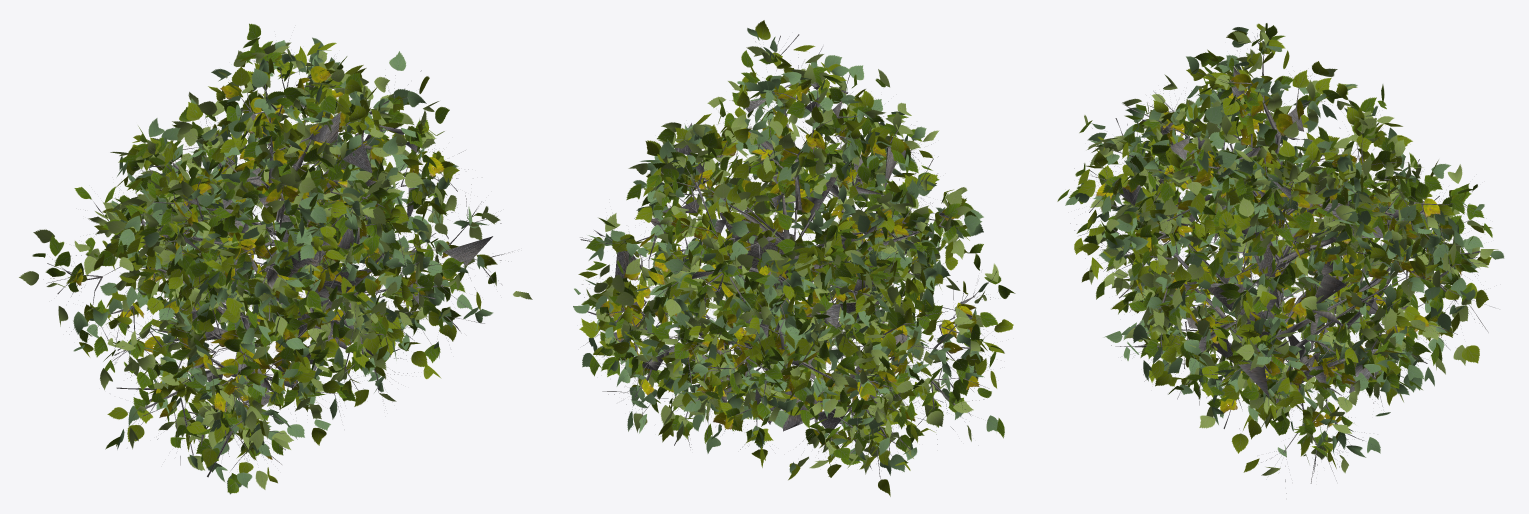
File: bush.glb
3 views of the same model, side by side, from view 1: azimuth 30°, elevation 25°; view 2: azimuth 150°, elevation 25°; view 3: azimuth 270°, elevation 25° (orthographic). The views are drawn at different scales.
Parts seen in each view (by area): view 1: Bush 3 (smaller).001, Bush 3 (smaller).005, Bush 3 (smaller).004, Bush 3 (smaller), Bush 3 (smaller).003, Bush 3 (smaller).002; view 2: Bush 3 (smaller).001, Bush 3 (smaller).005, Bush 3 (smaller).004, Bush 3 (smaller), Bush 3 (smaller).003, Bush 3 (smaller).002; view 3: Bush 3 (smaller), Bush 3 (smaller).004, Bush 3 (smaller).005, Bush 3 (smaller).001, Bush 3 (smaller).003, Bush 3 (smaller).002.
Boxes of the visible parts, box(x1,y1,x2,y2) form: Bush 3 (smaller).001: box(32, 23, 496, 493); Bush 3 (smaller).005: box(19, 42, 532, 489); Bush 3 (smaller).004: box(66, 42, 497, 483); Bush 3 (smaller): box(73, 37, 493, 494); Bush 3 (smaller).003: box(43, 50, 512, 477); Bush 3 (smaller).002: box(73, 66, 450, 459); Bush 3 (smaller).001: box(581, 50, 1015, 466); Bush 3 (smaller).005: box(586, 46, 998, 474); Bush 3 (smaller).004: box(578, 20, 1013, 496); Bush 3 (smaller): box(573, 28, 998, 475); Bush 3 (smaller).003: box(573, 34, 990, 478); Bush 3 (smaller).002: box(601, 86, 979, 445); Bush 3 (smaller): box(1065, 27, 1504, 457); Bush 3 (smaller).004: box(1074, 23, 1492, 472); Bush 3 (smaller).005: box(1084, 26, 1497, 475); Bush 3 (smaller).001: box(1057, 23, 1492, 463); Bush 3 (smaller).003: box(1070, 29, 1494, 493); Bush 3 (smaller).002: box(1096, 74, 1461, 427).
Size of the model in its own units: 1.12 by 1.11 by 1.08.
6 materials, 6 textured.
